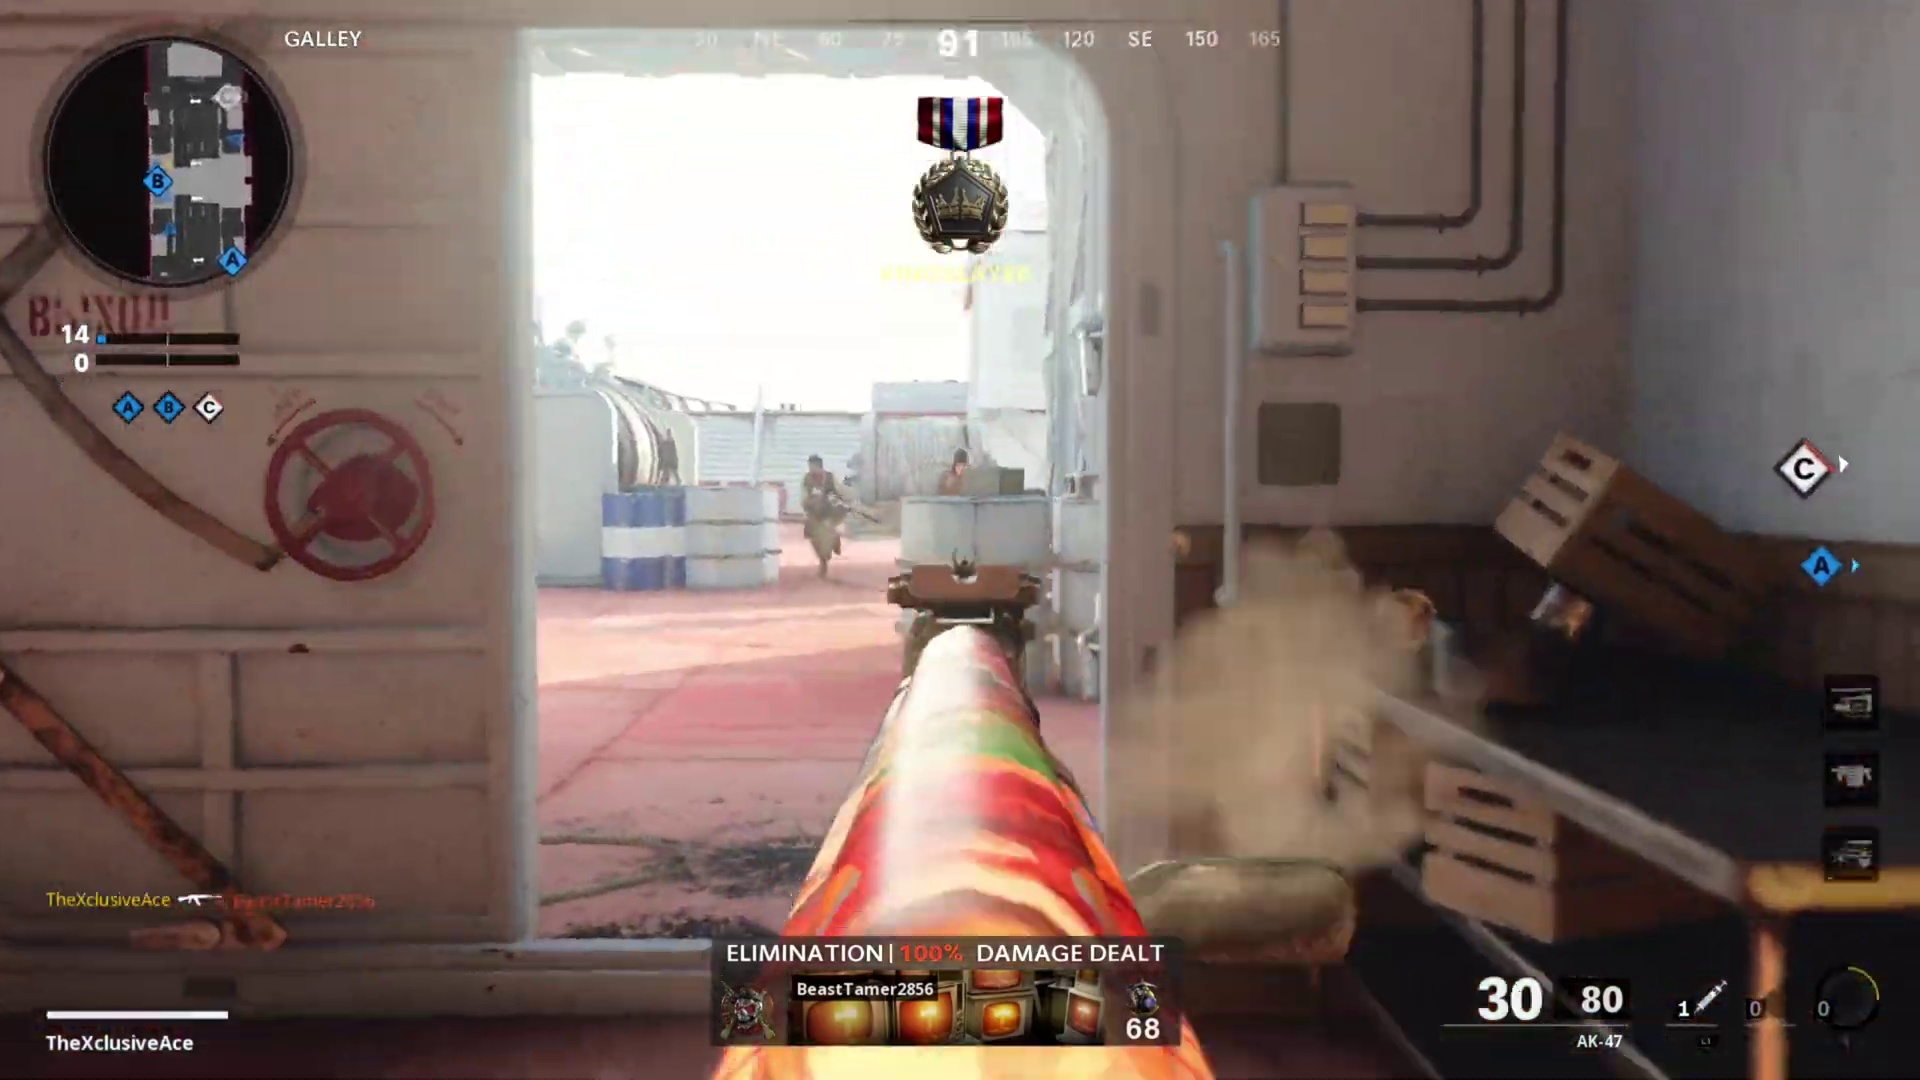head: (802, 451, 830, 489), (948, 446, 971, 476)
person: (798, 451, 854, 578), (937, 447, 968, 493)
